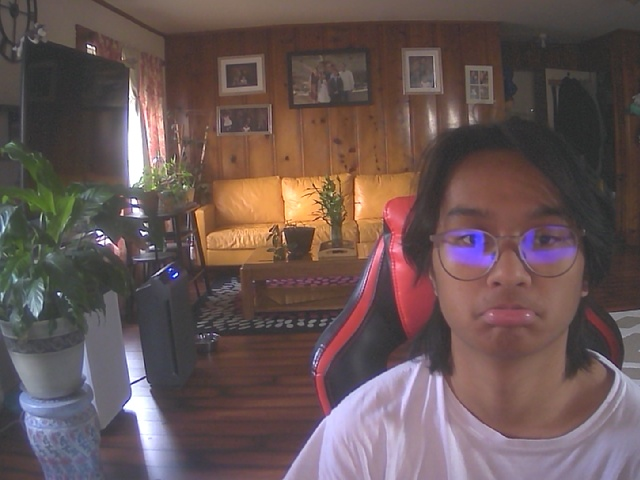sad: (421, 126, 604, 361)
